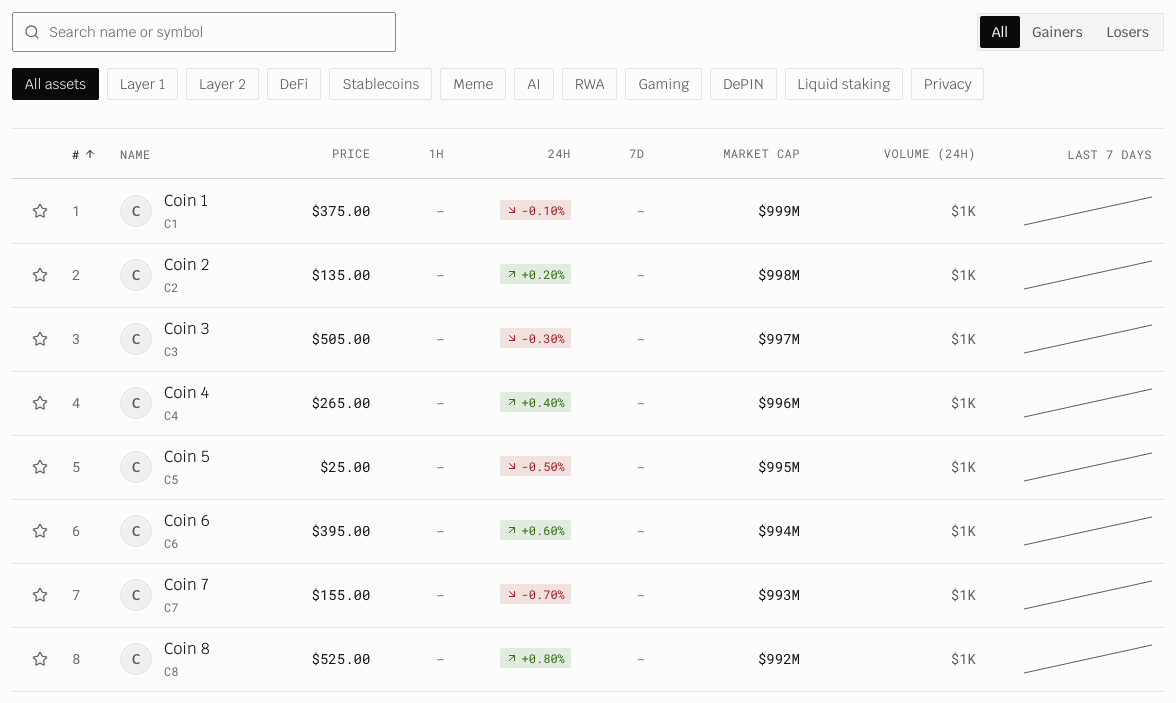
Scenario: MarketsExplorer: search › shows an empty state with a way out when nothing matches
Type "qqqq" into the search field.
click(204, 32); type("qqqq")  # box [12,12,396,52]
Wait 300 ms
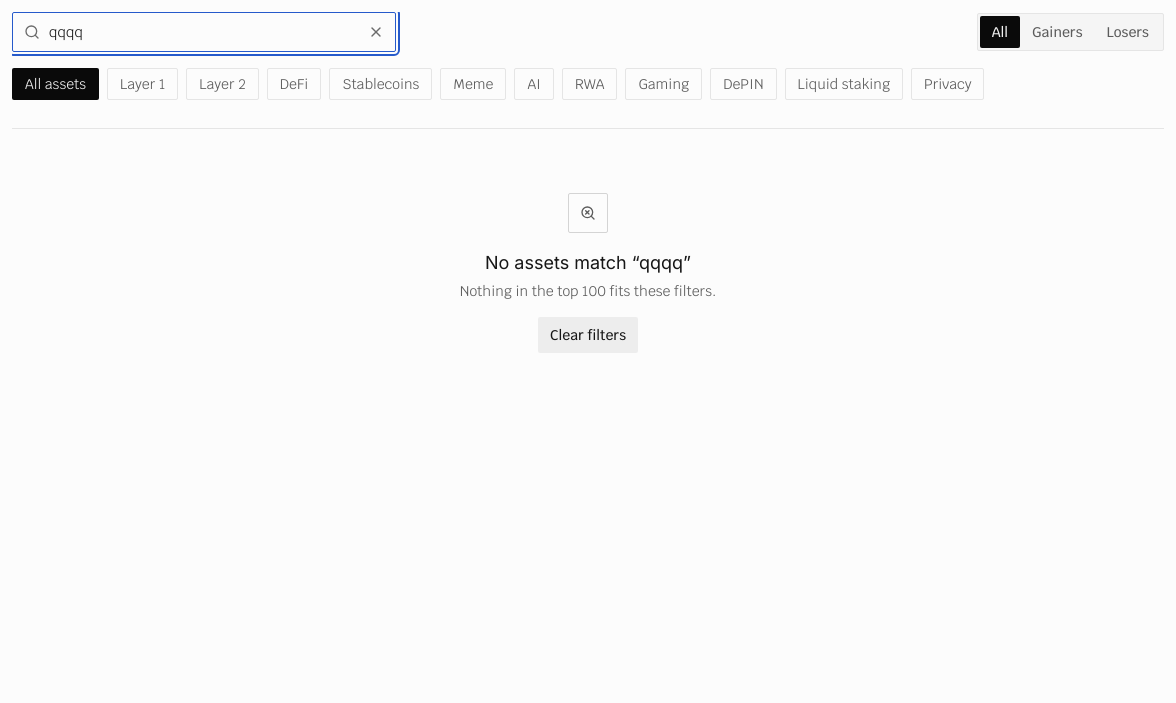
Check: the heading "No assets match “qqqq”" is shown, box [485,252,691,273]
Click the button "Clear filters".
click(588, 335)  # box [538,317,638,353]
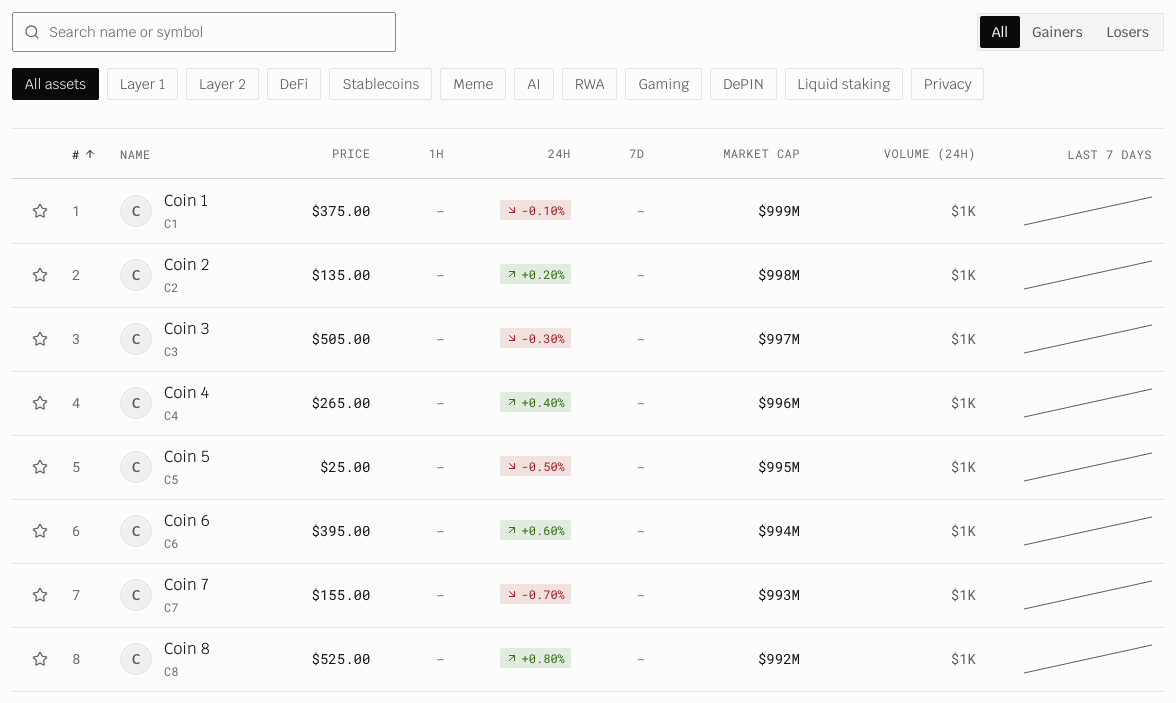
Check: the search field is empty, box [12,12,396,52]
